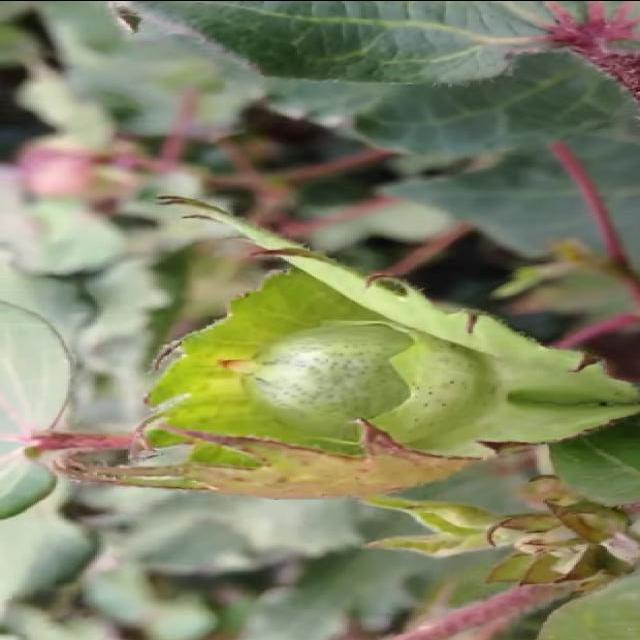Early Boll: (139, 272, 534, 500)
